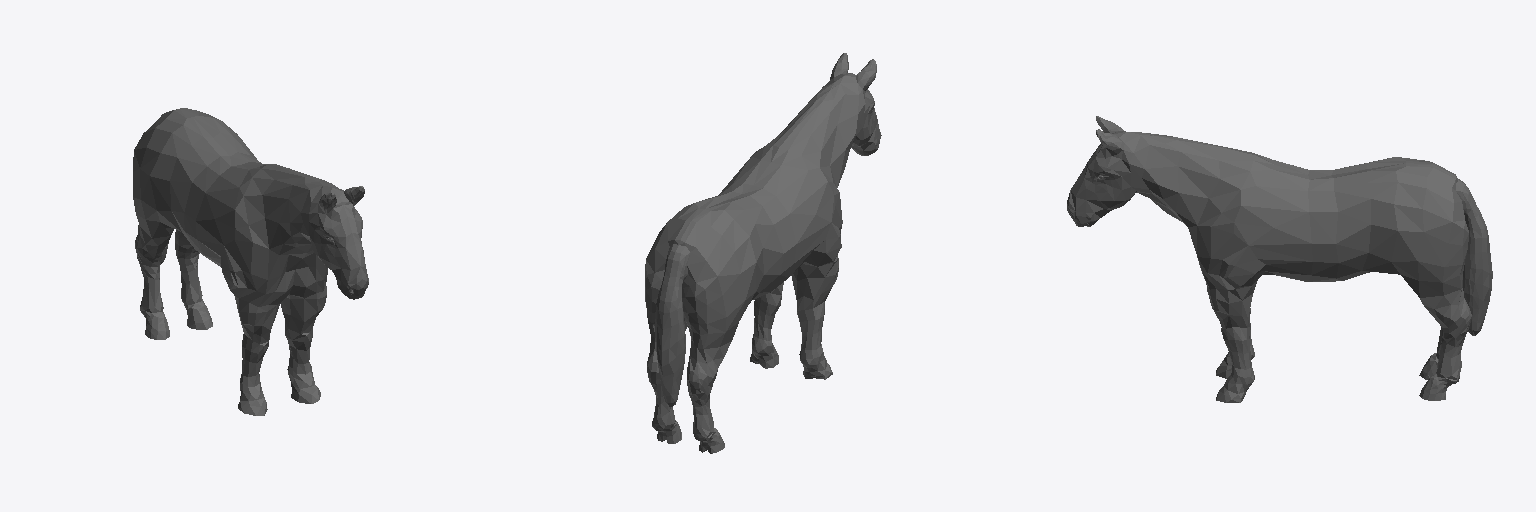
The model's file is horse.obj.
3 renders of one model, left to right at view 1: azimuth 30°, elevation 25°; view 2: azimuth 150°, elevation 25°; view 3: azimuth 270°, elevation 25°, orthographic.
Visible parts, largest first — view 1: Plane001_Mesh; view 2: Plane001_Mesh; view 3: Plane001_Mesh.
Boxes of the visible parts, x1,y1,x2,y2 form: Plane001_Mesh: [133, 108, 368, 415]; Plane001_Mesh: [645, 53, 881, 453]; Plane001_Mesh: [1067, 116, 1492, 402].
Size of the model in its own units: 0.6036 by 1.58 by 2.29.